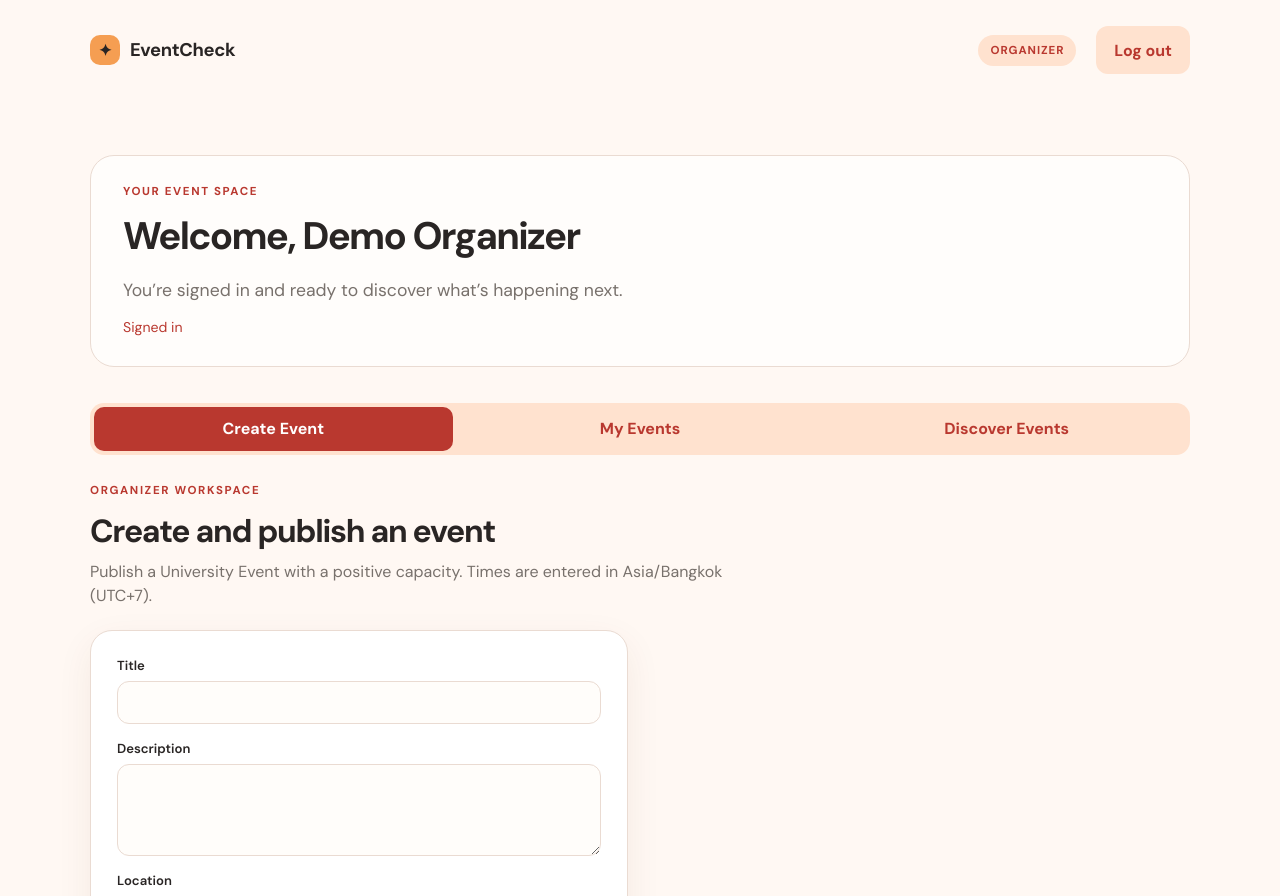
Test case: F-04 Organizer registration management UI › TEST-F04-10: shows a safe permission error without displaying registration data
Click the tab "My Events". click: (640, 429)
box: [461,407,819,451]
(page scrolled)
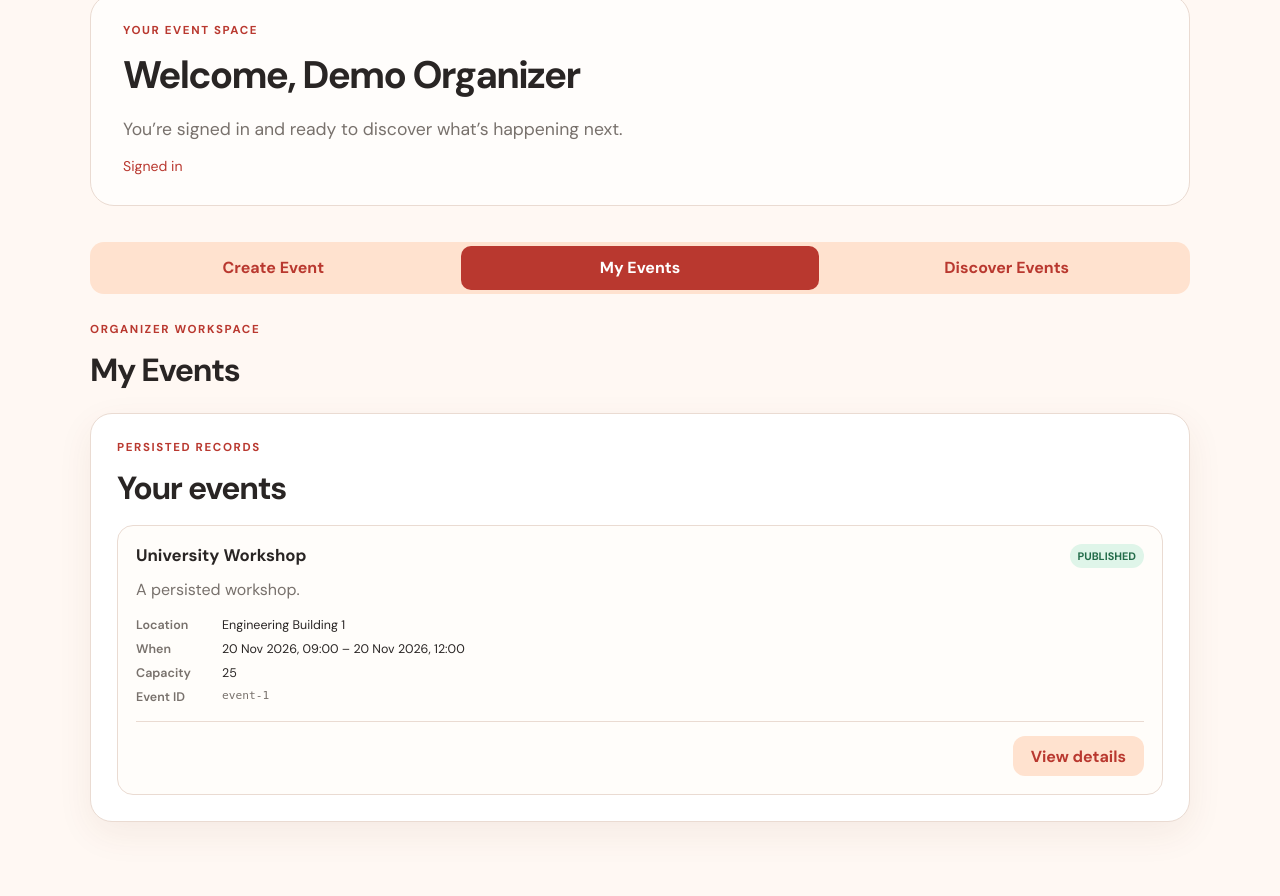
Click the button "View details". click: (1078, 756)
box: [1013,736,1144,776]
(page scrolled)
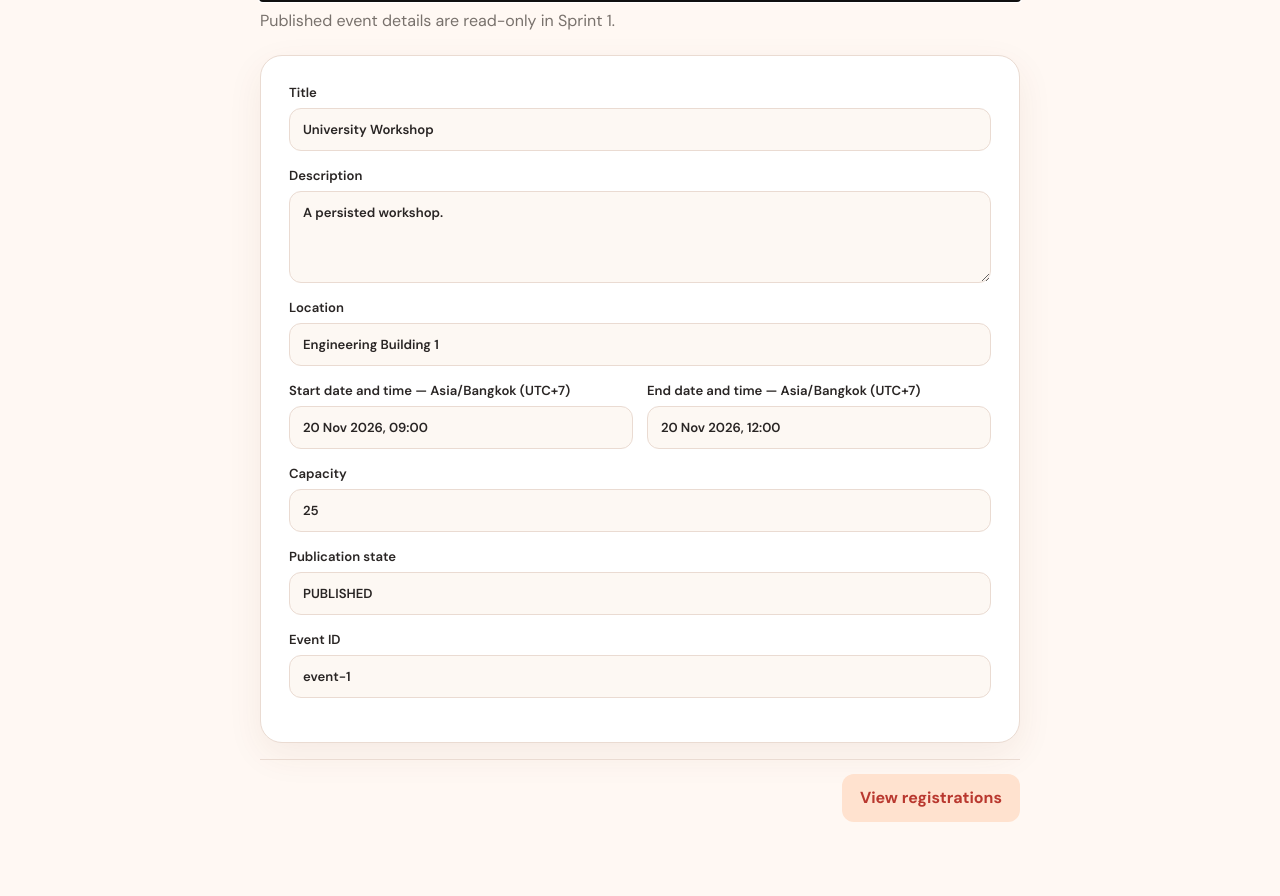
Result: the form named "Event details" is shown at [260,55,1020,743]
Click the button "View registrations". click: (931, 798)
box: [842,774,1020,822]
(page scrolled)
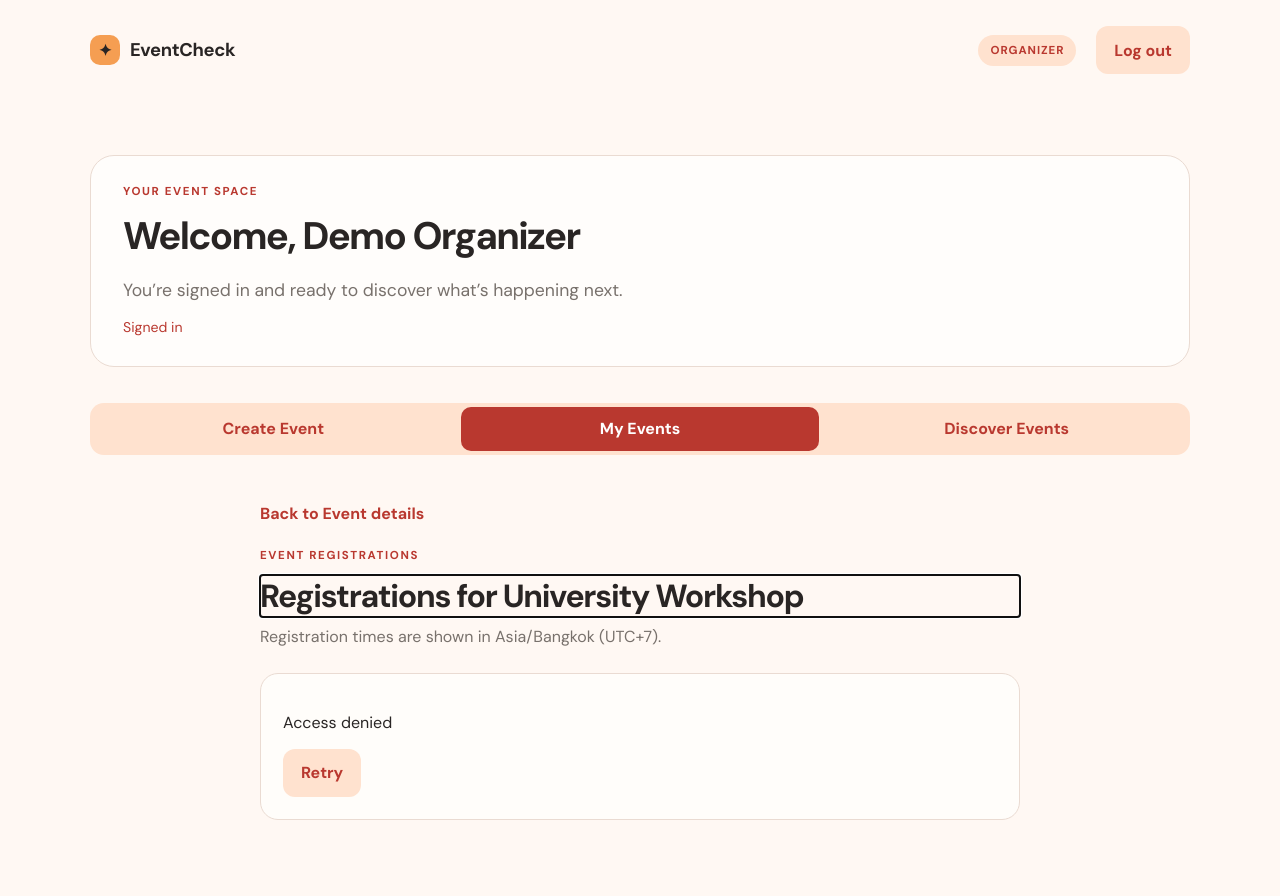
Result: the message "Access denied Retry" is shown at [260,673,1020,820]
